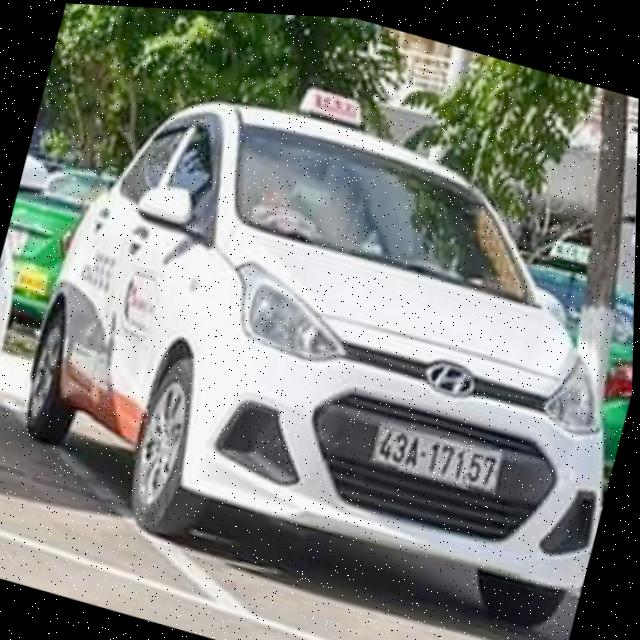car: (0, 46, 639, 640)
plate: (356, 408, 517, 508)
